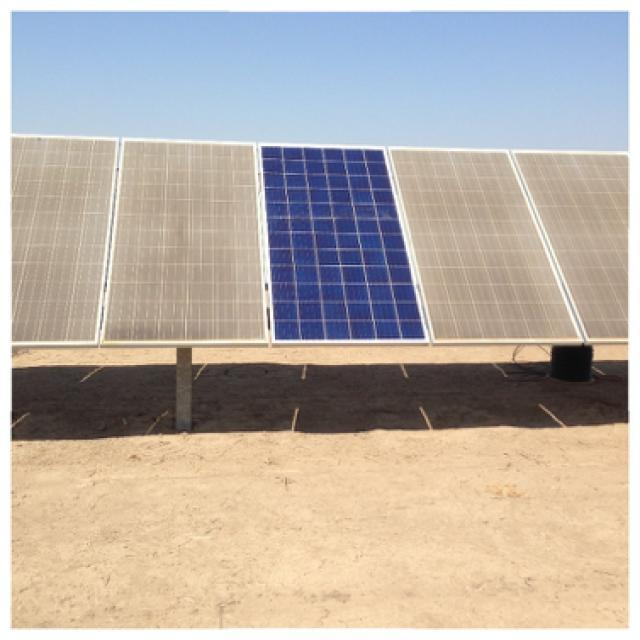Surface Contaminant: (9, 136, 267, 341), (390, 146, 626, 343)
